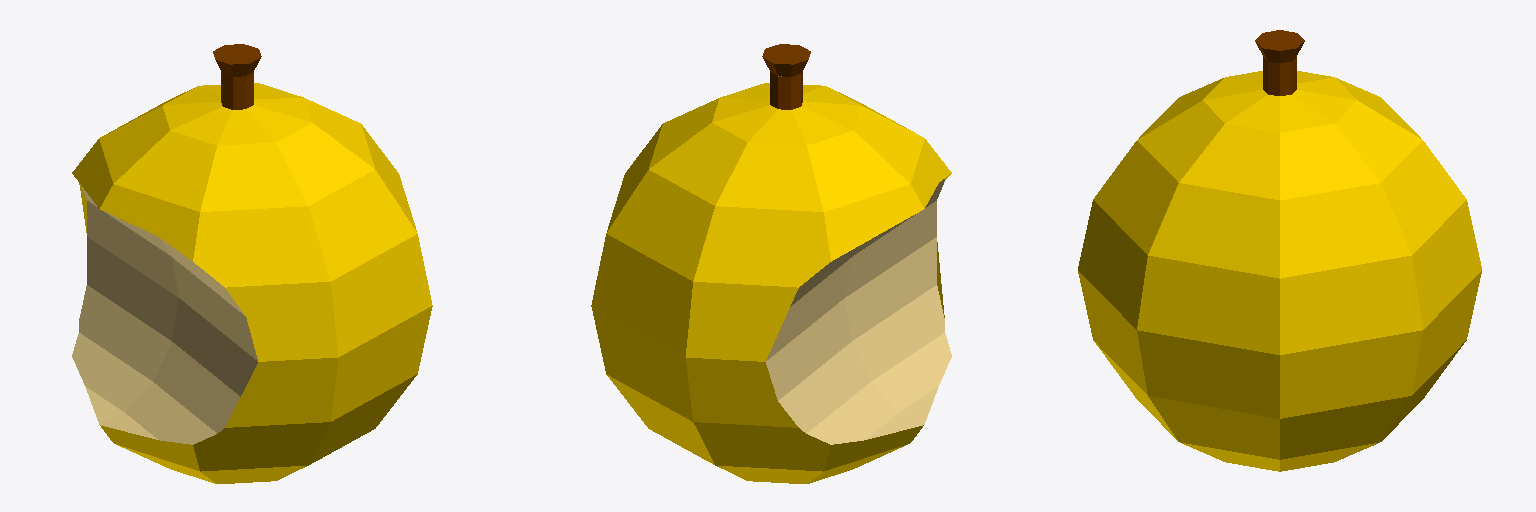
The picture shows the model from 3 angles: view 1: azimuth 30°, elevation 25°; view 2: azimuth 150°, elevation 25°; view 3: azimuth 270°, elevation 25°; orthographic projection.
Parts seen in each view (by area): view 1: Cylinder; view 2: Cylinder; view 3: Cylinder.
Boxes of the visible parts, x1=… form: Cylinder: x1=72, y1=44, x2=432, y2=483; Cylinder: x1=591, y1=44, x2=951, y2=483; Cylinder: x1=1078, y1=30, x2=1481, y2=471.
Bounding box in the file's own units: 5.36 × 6.75 × 6.
Materials: 1 (1 with a texture image).